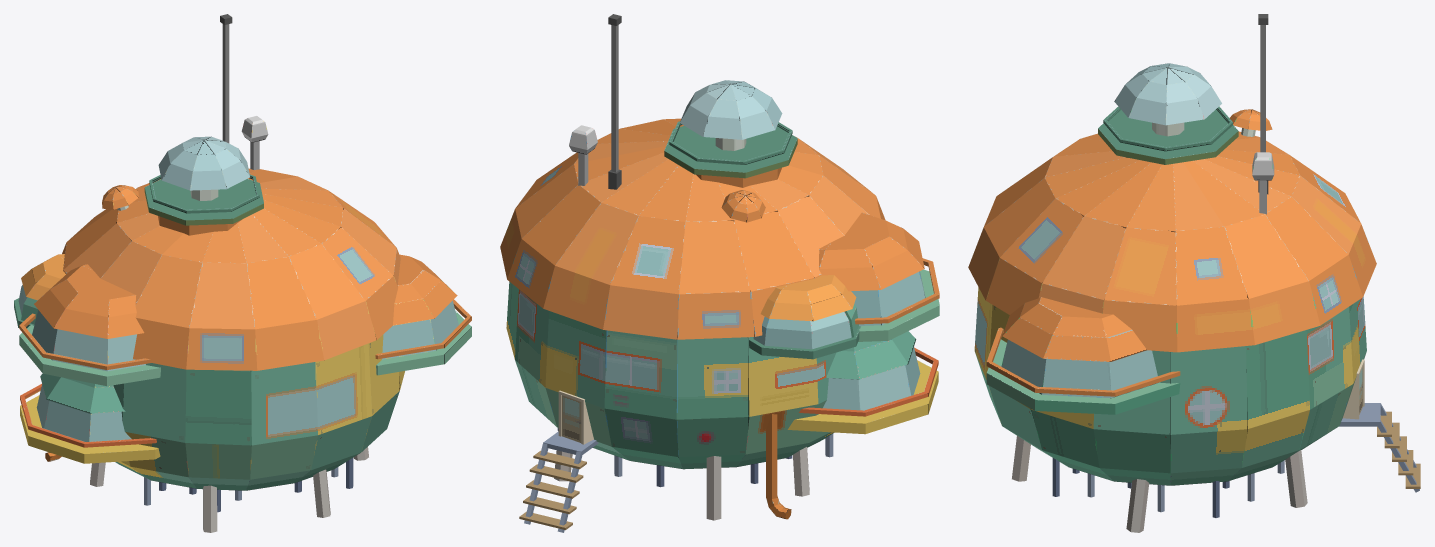
File: F.ber_house_5.gltf
3 renders of one model, left to right at view 1: azimuth 30°, elevation 25°; view 2: azimuth 150°, elevation 25°; view 3: azimuth 270°, elevation 25°, orthographic. The views are drawn at different scales.
Parts seen in each view (by area): view 1: cuboid; view 2: cuboid; view 3: cuboid.
Part boxes in pixels (bbox=[...]): cuboid: bbox=[14, 14, 471, 532]; cuboid: bbox=[500, 14, 939, 532]; cuboid: bbox=[968, 14, 1420, 532].
Size of the model in its own units: 12.78 by 13.01 by 11.32.
1 material, 1 textured.
